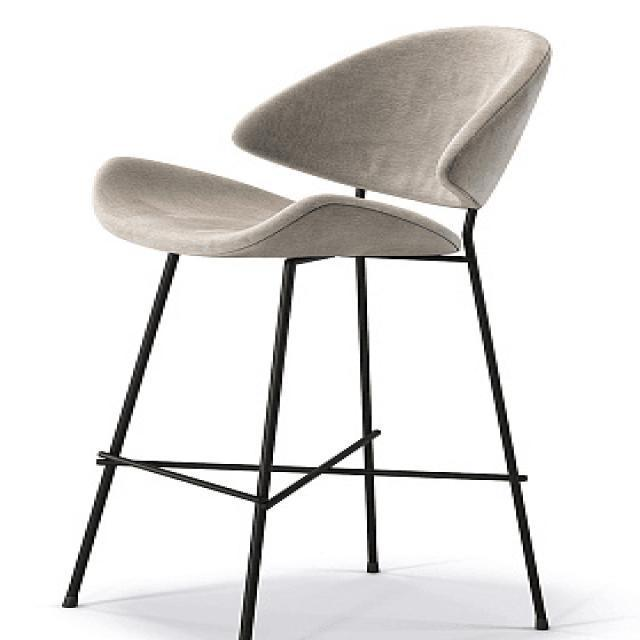chair: (50, 20, 565, 640), (92, 25, 555, 258)
